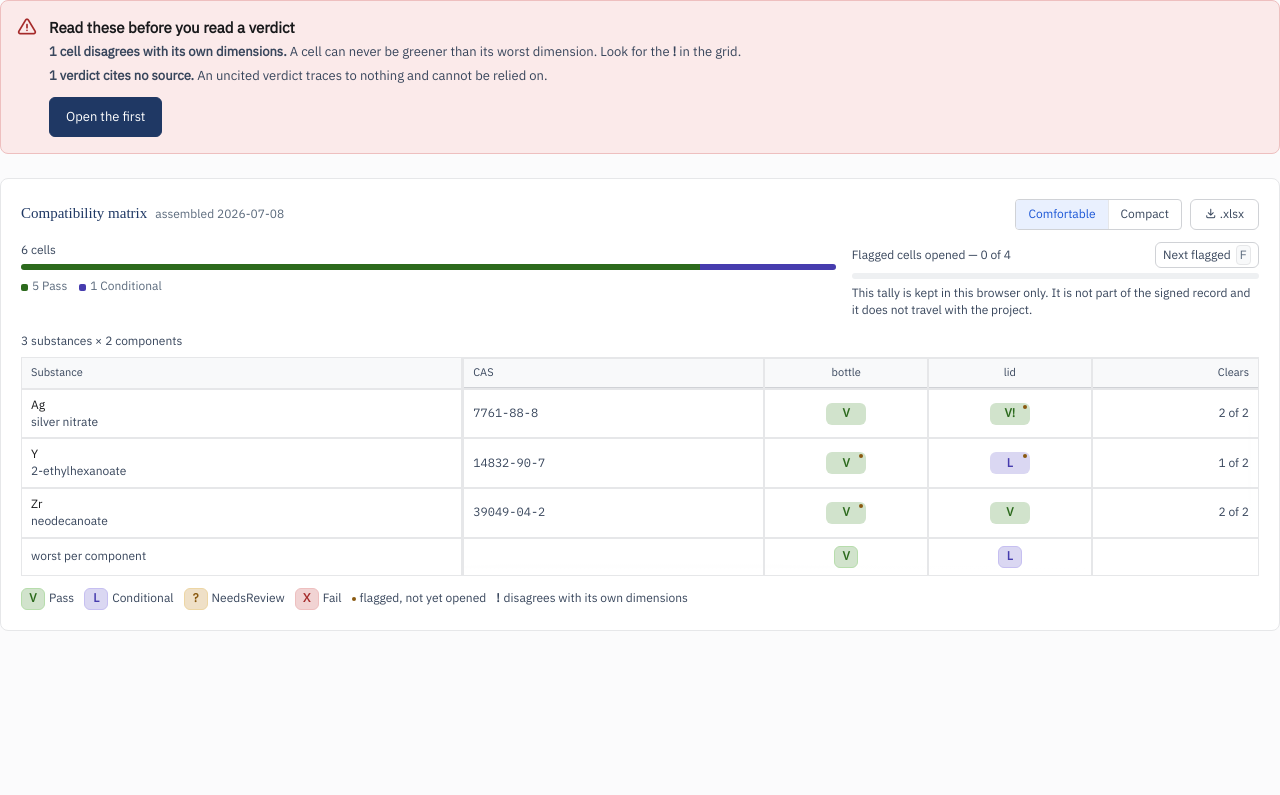
Test: Matrix — nothing marks a cell reviewed except opening its evidence › marks exactly the cell whose evidence was opened, and only on opening it
Click the button "L" at [1010, 463], box [990,452,1030,474]
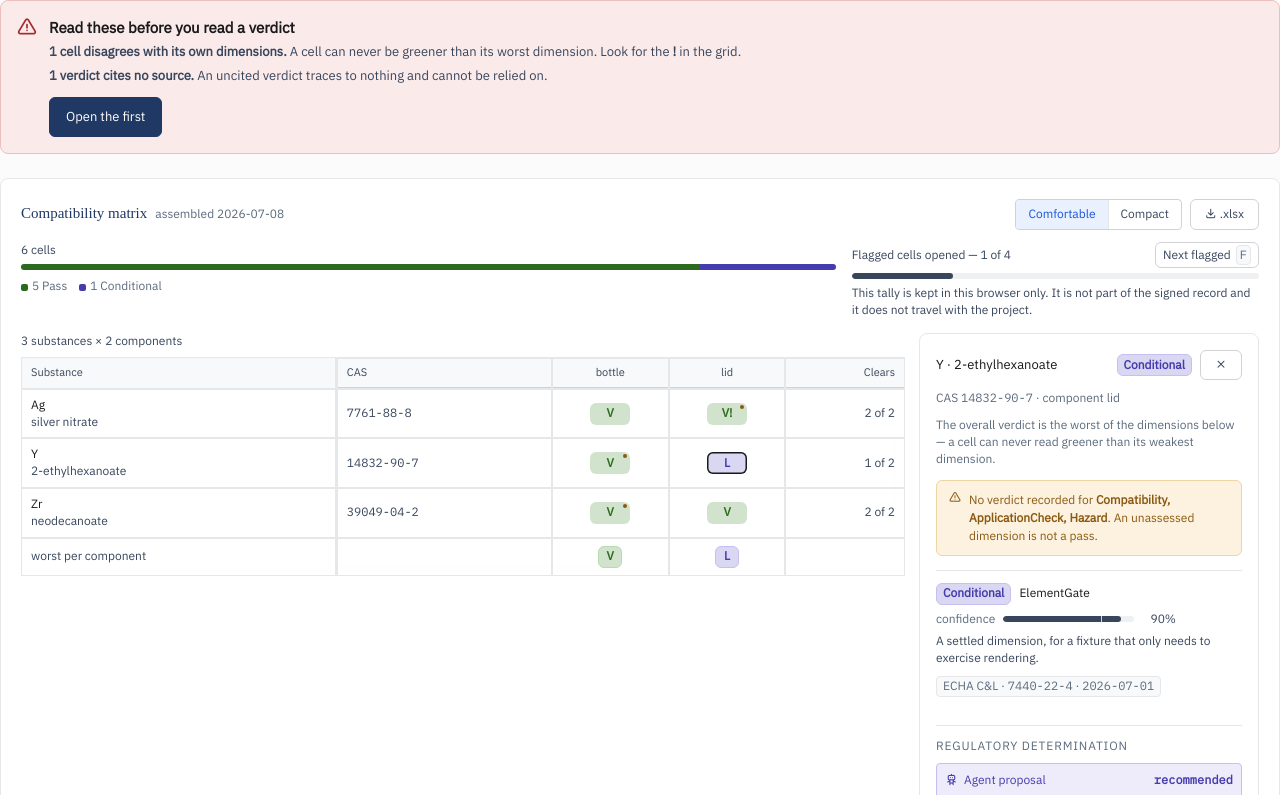
Expected: the text "Flagged cells opened — 1 of 4" is shown, [852,247,1011,263]
